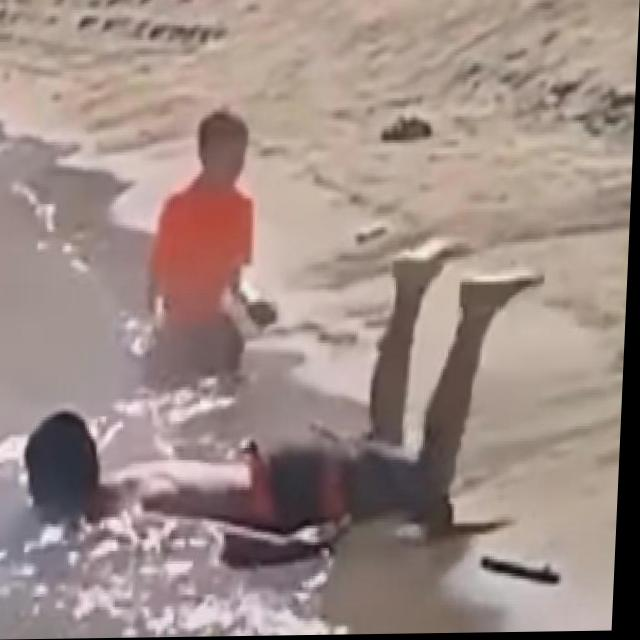fall: (37, 230, 544, 575)
